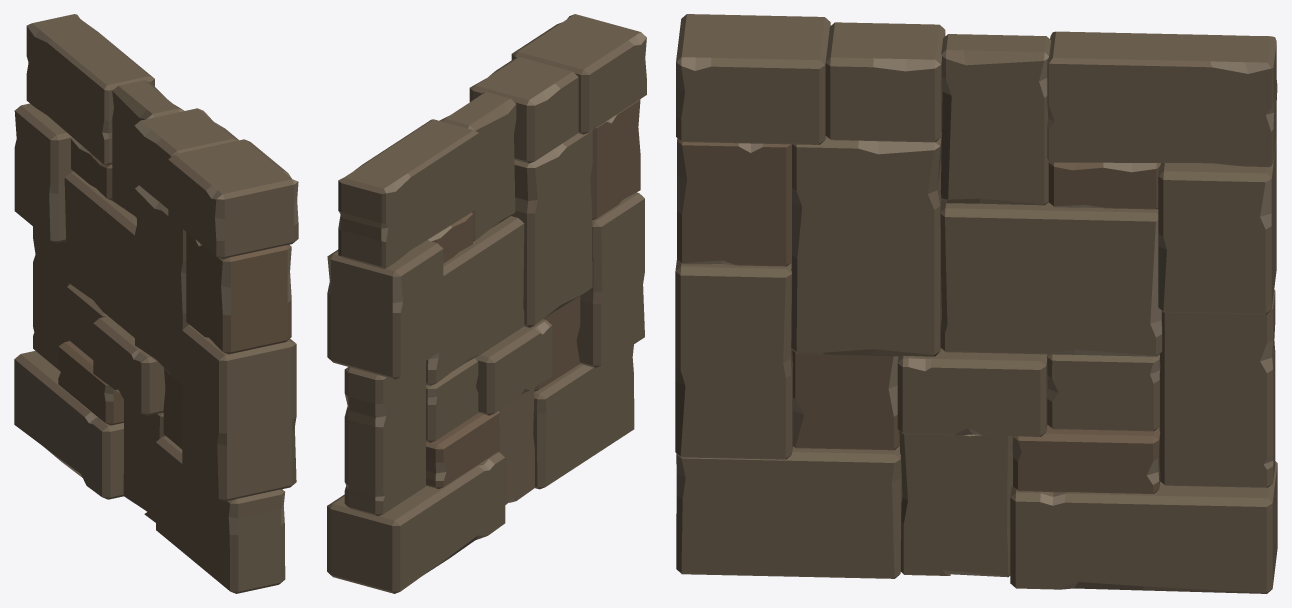
Rendered from plaza_wall_west_1_lev3.glb.
3 renders of one model, left to right at view 1: azimuth 30°, elevation 25°; view 2: azimuth 150°, elevation 25°; view 3: azimuth 270°, elevation 25°, orthographic. The views are drawn at different scales.
Visible parts, largest first — view 1: plaza_wall_west_1_lev3; view 2: plaza_wall_west_1_lev3; view 3: plaza_wall_west_1_lev3.
Boxes of the visible parts, bbox=[...] form: plaza_wall_west_1_lev3: bbox=[14, 14, 298, 593]; plaza_wall_west_1_lev3: bbox=[327, 14, 646, 593]; plaza_wall_west_1_lev3: bbox=[675, 14, 1277, 593].
Bounding box in the file's own units: 1.5 × 5.93 × 6.15.
